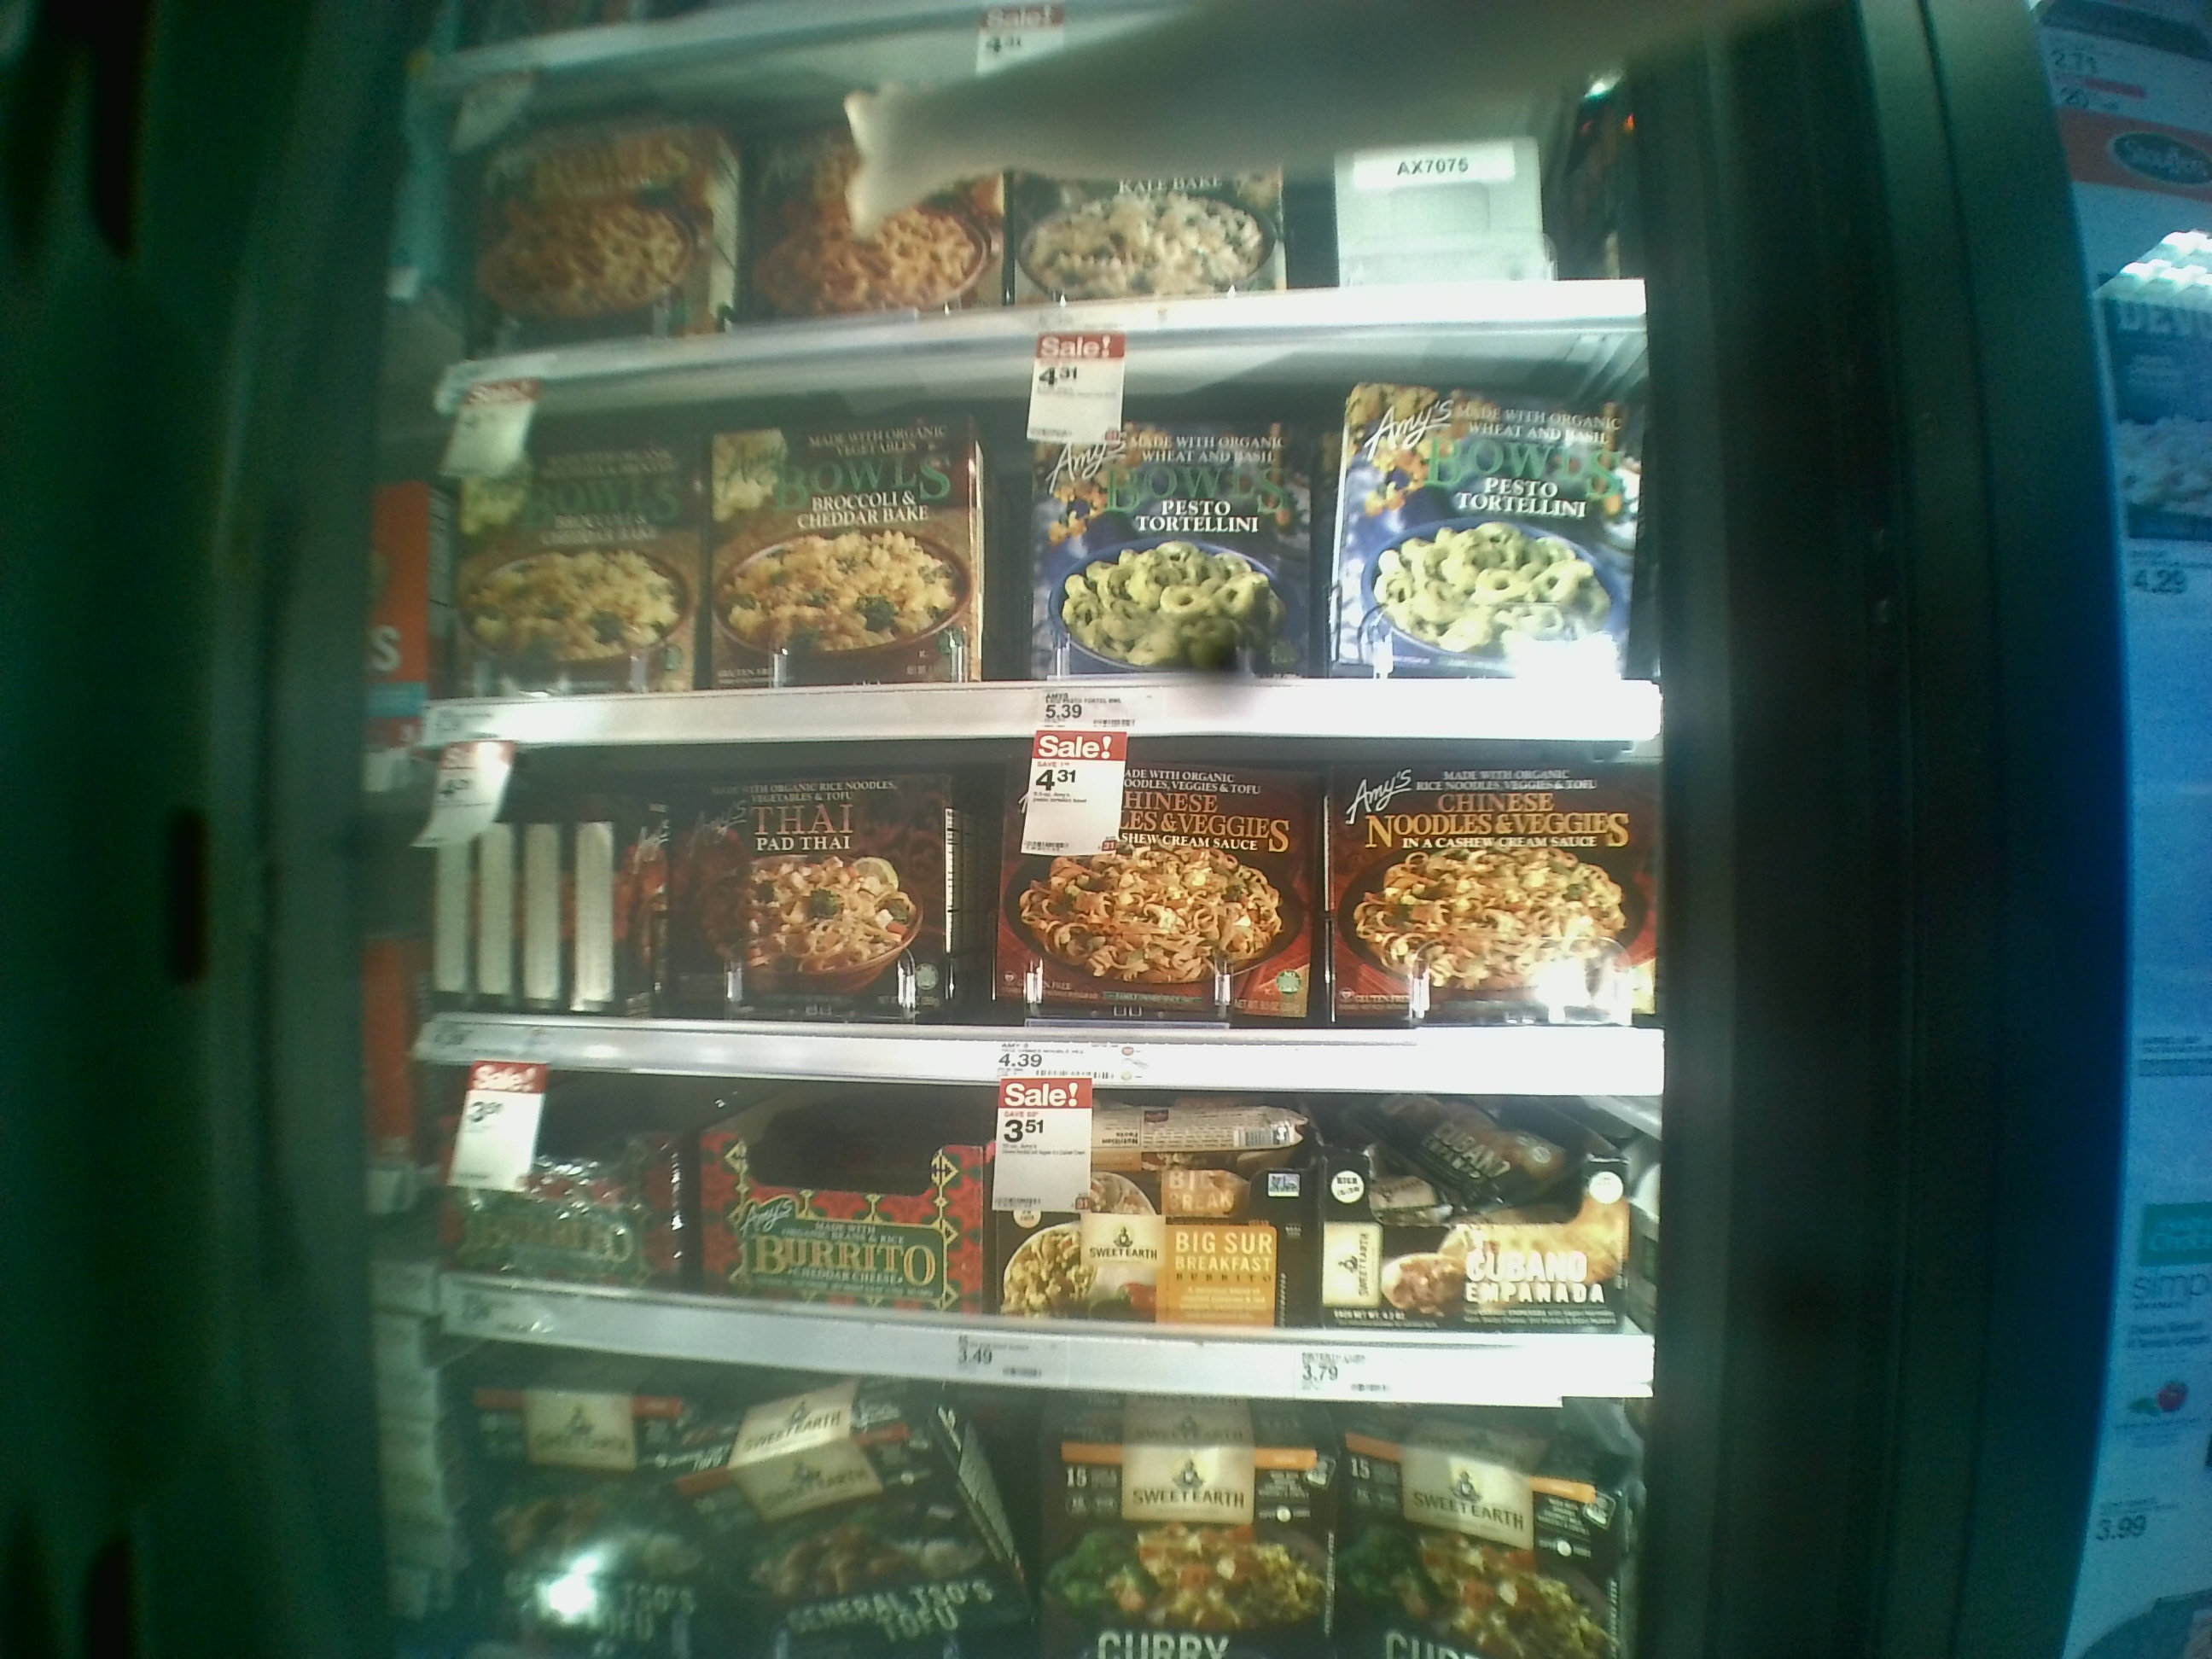shelf: (427, 368, 1662, 734), (416, 1047, 1656, 1371), (421, 734, 1669, 1037)
